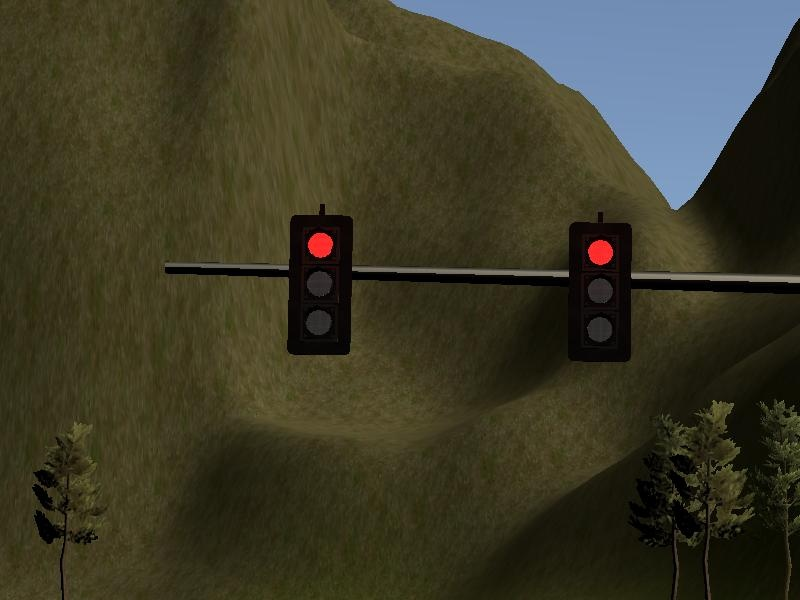RED: (568, 222, 630, 360), (288, 215, 350, 353)
